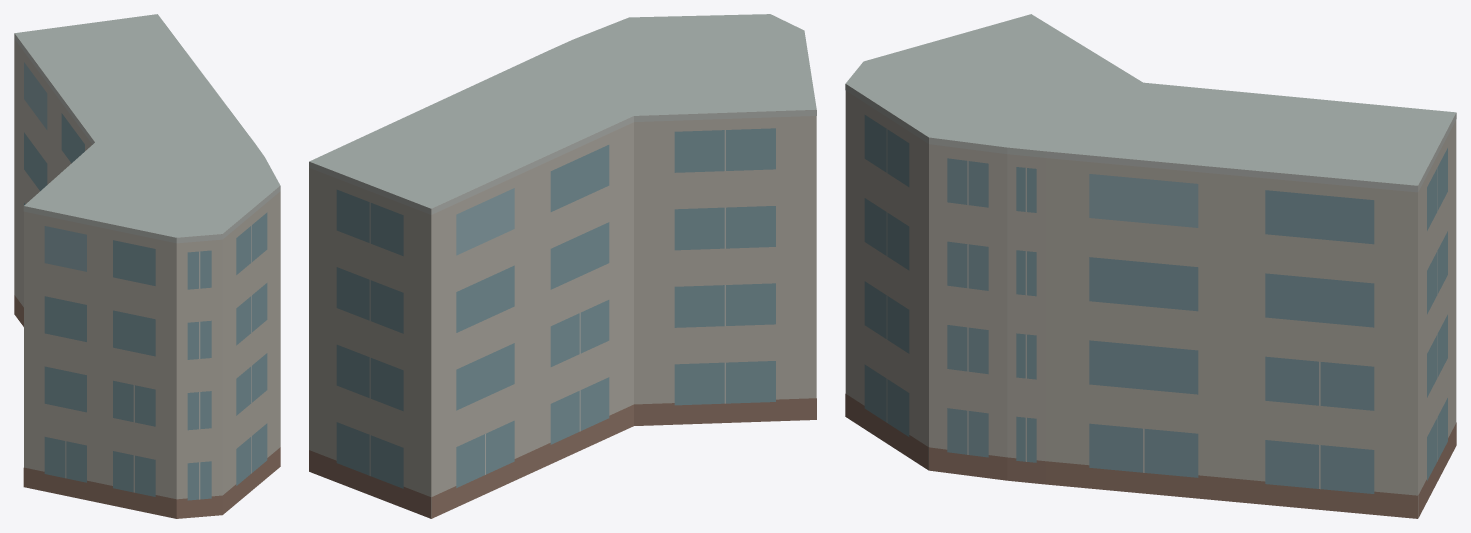
Rendered from survey-upis-32492896.glb.
The picture shows the model from 3 angles, left to right: view 1: azimuth 30°, elevation 25°; view 2: azimuth 150°, elevation 25°; view 3: azimuth 270°, elevation 25°; orthographic projection. The views are drawn at different scales.
Visible parts, largest first — view 1: survey-upis-32492896.tmp; view 2: survey-upis-32492896.tmp; view 3: survey-upis-32492896.tmp.
Boxes of the visible parts, x1=… form: survey-upis-32492896.tmp: x1=14, y1=14, x2=280, y2=518; survey-upis-32492896.tmp: x1=309, y1=14, x2=816, y2=518; survey-upis-32492896.tmp: x1=845, y1=14, x2=1456, y2=518.
Bounding box in the file's own units: 13.5 × 12.2 × 20.29.
